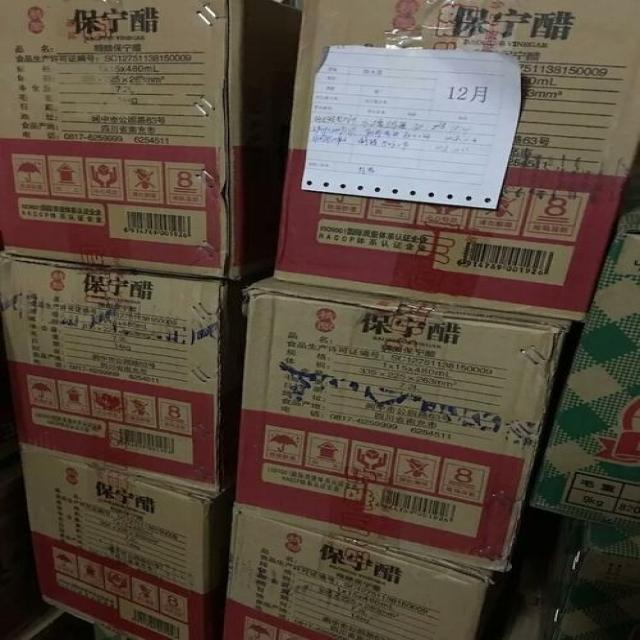box: (273, 0, 639, 322), (235, 276, 574, 573), (0, 0, 304, 280), (0, 257, 275, 493), (527, 145, 639, 534), (21, 446, 237, 639), (223, 508, 495, 639), (539, 515, 639, 639)
